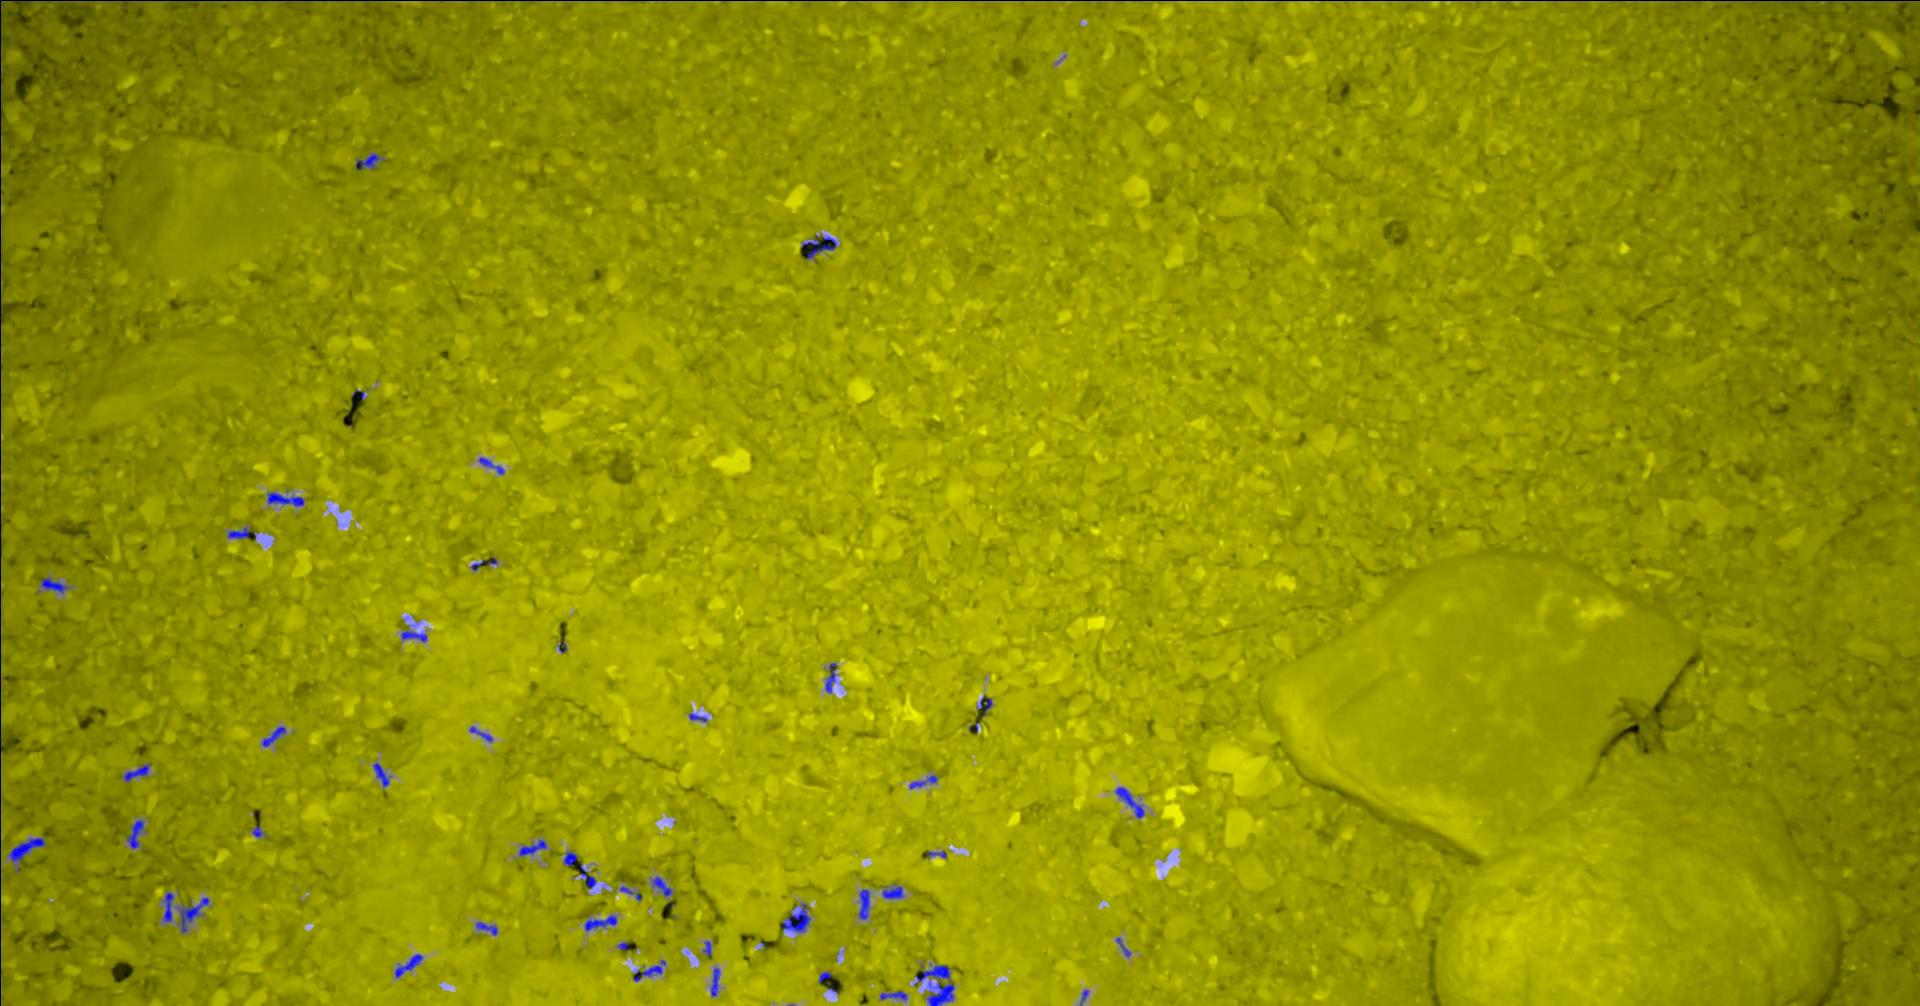ant: (916, 964, 955, 1005), (179, 897, 210, 932), (1116, 786, 1145, 818), (803, 234, 838, 258), (10, 837, 46, 861), (782, 903, 811, 932), (634, 959, 667, 981), (396, 953, 424, 977), (585, 915, 618, 931), (42, 575, 71, 593), (268, 492, 305, 506), (124, 763, 152, 781), (128, 819, 145, 848), (264, 727, 287, 747), (357, 152, 381, 170), (521, 840, 549, 855), (480, 457, 505, 474), (582, 862, 598, 888), (825, 662, 838, 692), (653, 876, 673, 895), (375, 762, 390, 786), (860, 888, 871, 920), (229, 526, 257, 539), (910, 775, 938, 788), (164, 890, 175, 921), (471, 727, 494, 741), (477, 921, 499, 935), (403, 630, 428, 641), (881, 989, 908, 1000), (712, 967, 721, 996), (884, 887, 905, 898), (565, 851, 579, 866), (982, 697, 993, 715)
